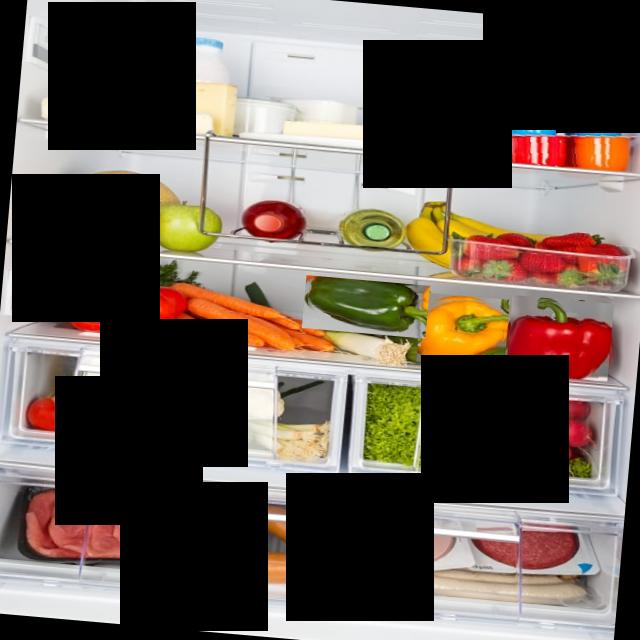eggs: (377, 112, 501, 140)
pepper: (505, 295, 614, 381), (302, 274, 429, 338), (416, 292, 510, 368)
tomatoes: (36, 280, 182, 338)
yogurt: (492, 85, 638, 172)
